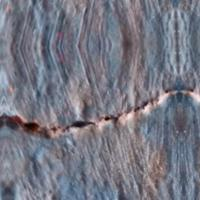crack: (2, 75, 196, 170)
